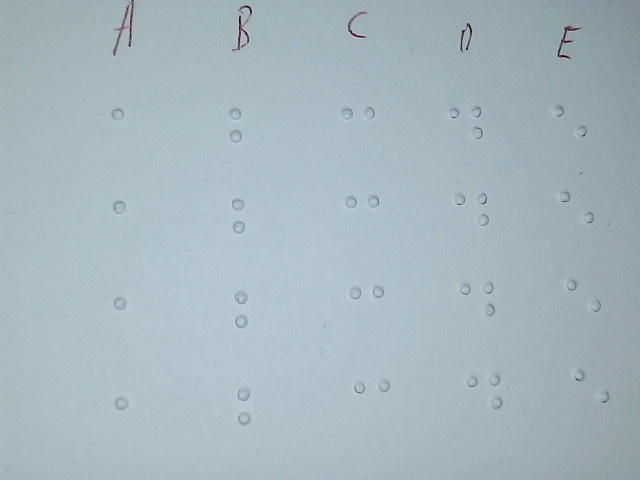A: (103, 98, 155, 175), (104, 191, 156, 268), (105, 287, 157, 364), (105, 385, 157, 462)
B: (219, 99, 272, 180), (223, 190, 276, 271), (225, 281, 278, 362), (229, 377, 282, 458)
C: (334, 96, 387, 182), (337, 187, 390, 273), (341, 277, 394, 363), (346, 370, 399, 456)
